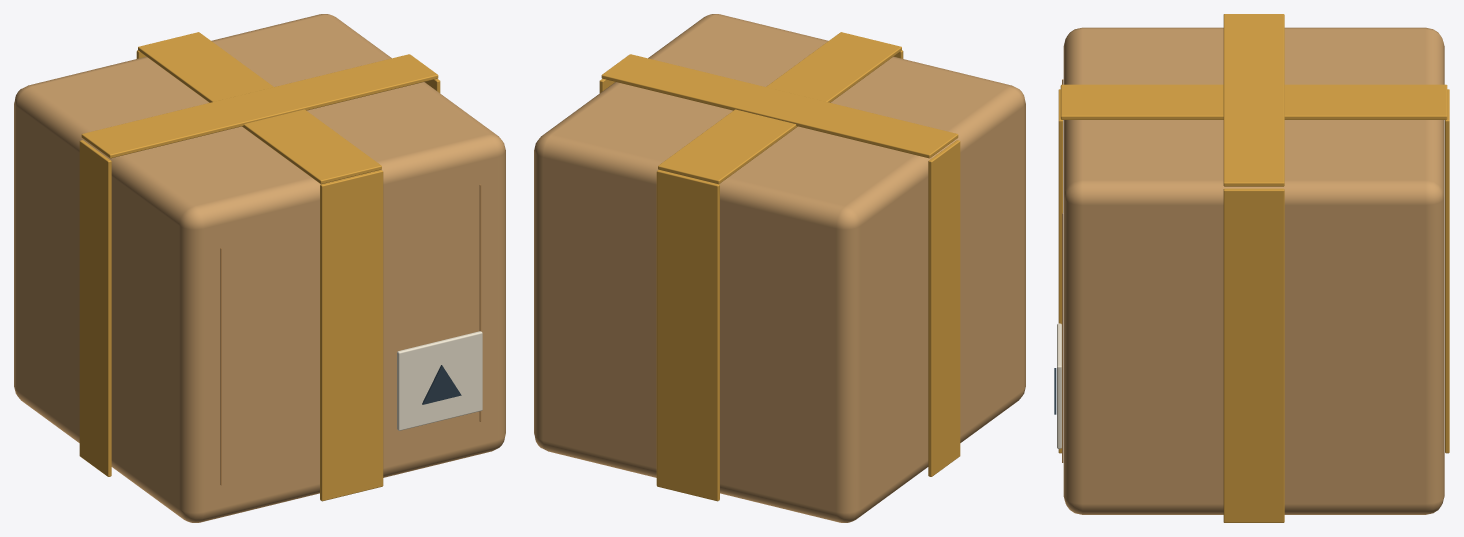
The model's file is play-parcel-small.glb.
3 renders of one model, left to right at view 1: azimuth 30°, elevation 25°; view 2: azimuth 150°, elevation 25°; view 3: azimuth 270°, elevation 25°, orthographic. The views are drawn at different scales.
Visible parts, largest first — view 1: Parcel_Carton, Parcel_Tape_Front_Back_0.07, Parcel_Tape_Top_Cross, Parcel_Tape_Sides_-0.0725, Parcel_Tape_Top_Length, Parcel_Paper_Label, Parcel_Label_Mountain; view 2: Parcel_Carton, Parcel_Tape_Front_Back_-0.07, Parcel_Tape_Top_Cross, Parcel_Tape_Sides_-0.0725, Parcel_Tape_Top_Length; view 3: Parcel_Carton, Parcel_Tape_Sides_0.0725, Parcel_Tape_Top_Length, Parcel_Tape_Top_Cross, Parcel_Tape_Front_Back_-0.07, Parcel_Tape_Front_Back_0.07, Parcel_Paper_Label, Parcel_Fold_0.057999999999999996.
Boxes of the visible parts, x1=… form: Parcel_Carton: x1=14, y1=14, x2=505, y2=522; Parcel_Tape_Front_Back_0.07: x1=320, y1=170, x2=383, y2=501; Parcel_Tape_Top_Cross: x1=81, y1=54, x2=438, y2=158; Parcel_Tape_Sides_-0.0725: x1=79, y1=140, x2=111, y2=476; Parcel_Tape_Top_Length: x1=138, y1=32, x2=381, y2=184; Parcel_Paper_Label: x1=397, y1=331, x2=482, y2=430; Parcel_Label_Mountain: x1=422, y1=365, x2=461, y2=404; Parcel_Carton: x1=534, y1=14, x2=1025, y2=522; Parcel_Tape_Front_Back_-0.07: x1=656, y1=170, x2=719, y2=501; Parcel_Tape_Top_Cross: x1=601, y1=54, x2=958, y2=158; Parcel_Tape_Sides_-0.0725: x1=928, y1=140, x2=960, y2=476; Parcel_Tape_Top_Length: x1=658, y1=32, x2=901, y2=184; Parcel_Carton: x1=1063, y1=27, x2=1444, y2=514; Parcel_Tape_Sides_0.0725: x1=1223, y1=188, x2=1284, y2=522; Parcel_Tape_Top_Length: x1=1060, y1=84, x2=1447, y2=119; Parcel_Tape_Top_Cross: x1=1223, y1=14, x2=1284, y2=186; Parcel_Tape_Front_Back_-0.07: x1=1445, y1=89, x2=1449, y2=453; Parcel_Tape_Front_Back_0.07: x1=1058, y1=89, x2=1062, y2=453; Parcel_Paper_Label: x1=1057, y1=323, x2=1061, y2=448; Parcel_Fold_0.057999999999999996: x1=1062, y1=213, x2=1063, y2=462.
Size of the model in its own units: 0.1487 by 0.1377 by 0.1452.
